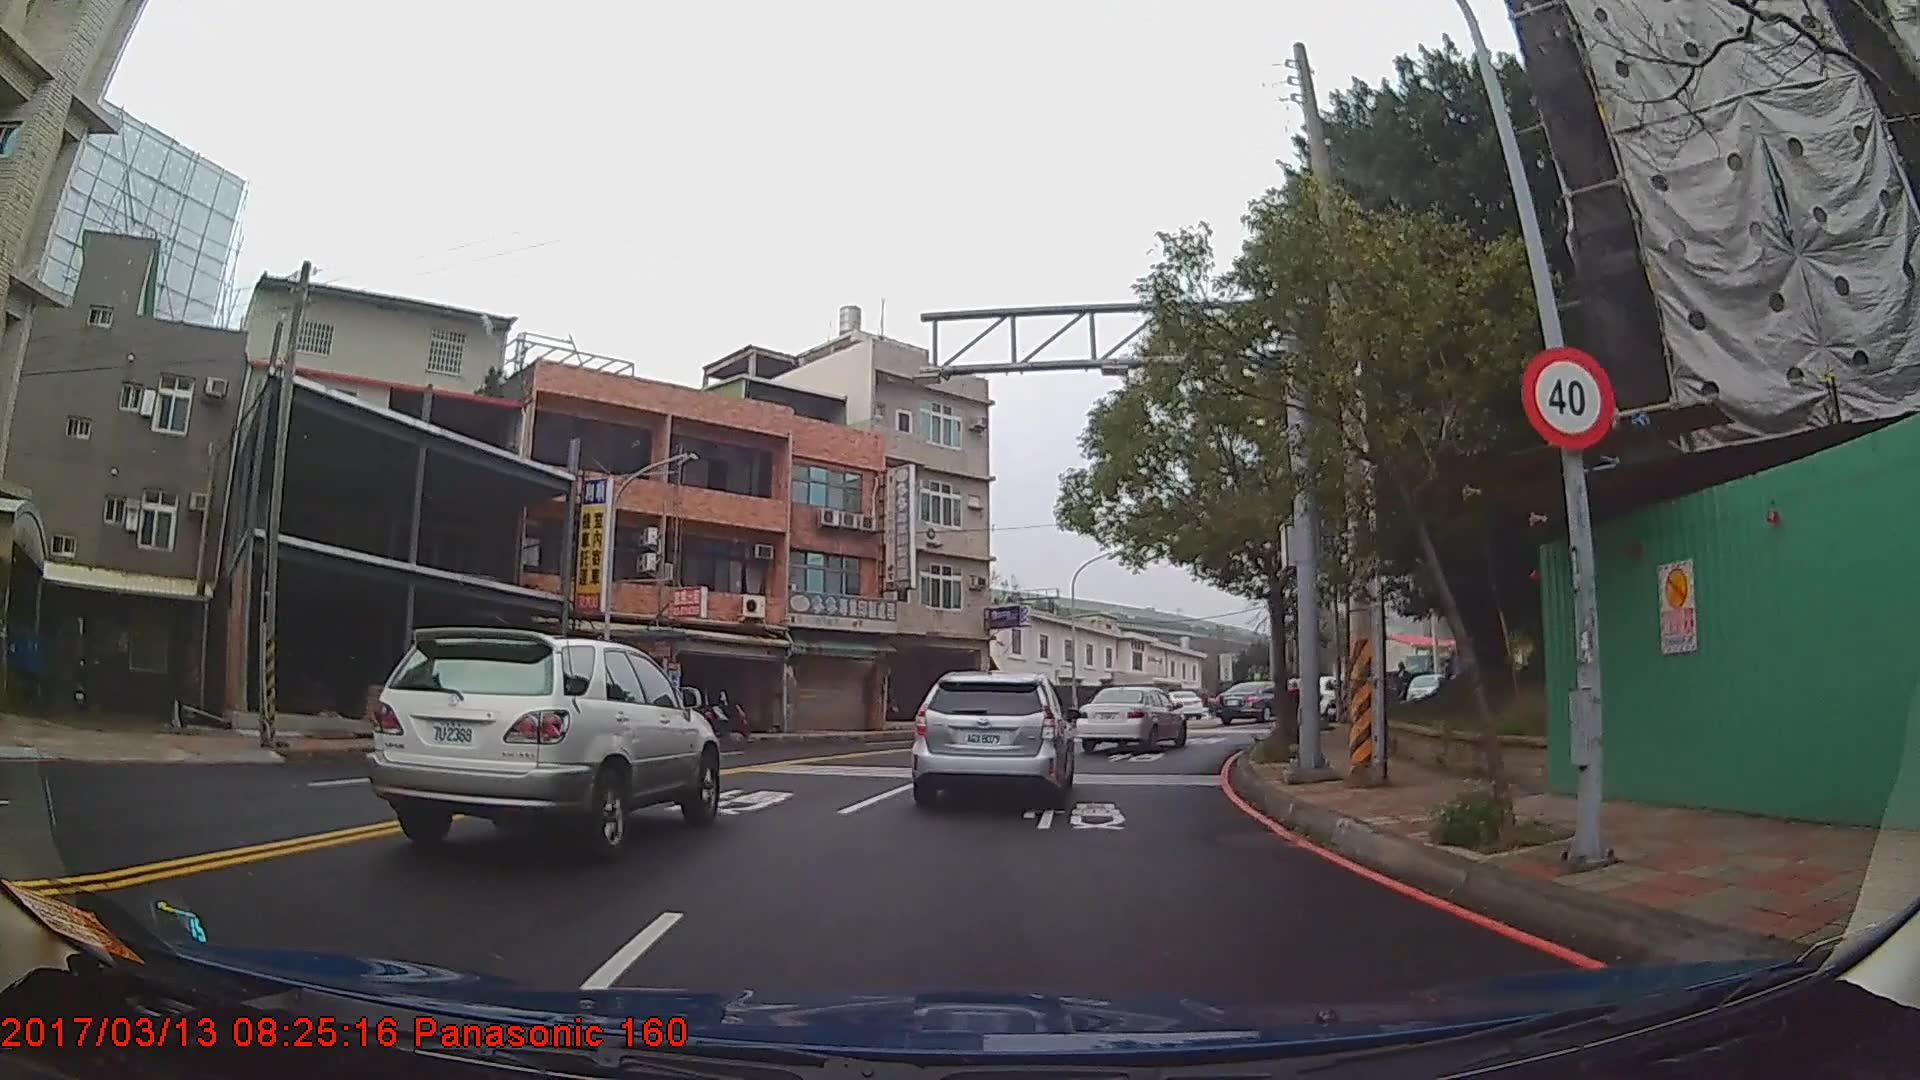vehicle: (363, 625, 720, 857), (911, 669, 1076, 808), (1075, 684, 1189, 752), (1212, 679, 1292, 725)
